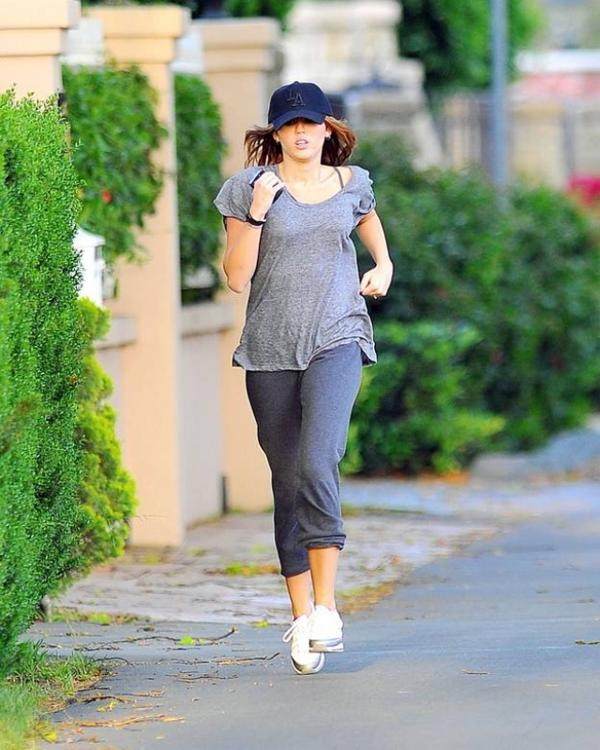person: (214, 81, 394, 682)
